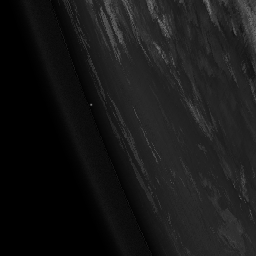Target: (88, 101, 93, 107)
